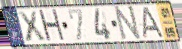4: (94, 7, 113, 42)
7: (67, 8, 85, 42)
A: (141, 6, 166, 40)
H: (37, 8, 67, 44)
N: (114, 5, 142, 42)
X: (17, 10, 47, 43)
